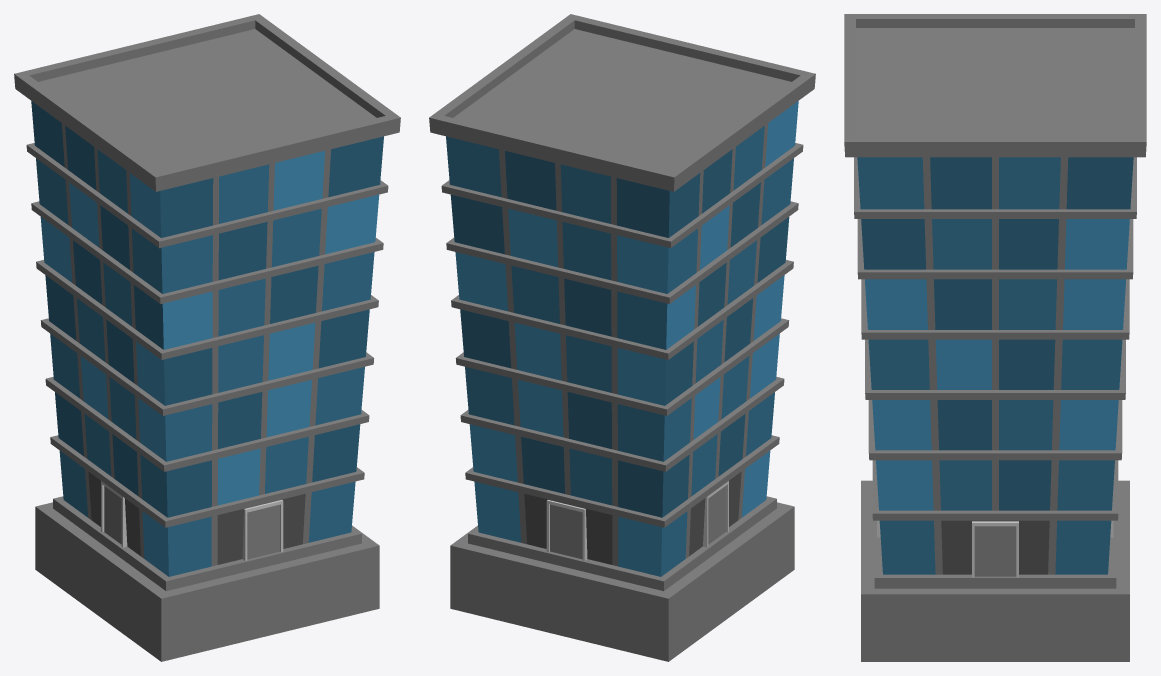
The picture shows the model from 3 angles, left to right: view 1: azimuth 30°, elevation 25°; view 2: azimuth 150°, elevation 25°; view 3: azimuth 270°, elevation 25°; orthographic projection. The views are drawn at different scales.
Visible parts, largest first — view 1: Cube, Cube.003, Cube.004; view 2: Cube, Cube.002, Cube.004; view 3: Cube, Cube.001.
Boxes of the visible parts, <box> form: Cube: <box>14,14,400,661</box>; Cube.003: <box>242,500,283,560</box>; Cube.004: <box>101,481,127,547</box>; Cube: <box>429,14,815,661</box>; Cube.002: <box>546,500,587,560</box>; Cube.004: <box>703,481,728,547</box>; Cube: <box>844,14,1146,661</box>; Cube.001: <box>972,521,1018,577</box>.
Size of the model in its own units: 225 by 432 by 225.
